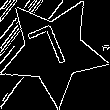L_SE: (30, 21, 77, 80)
